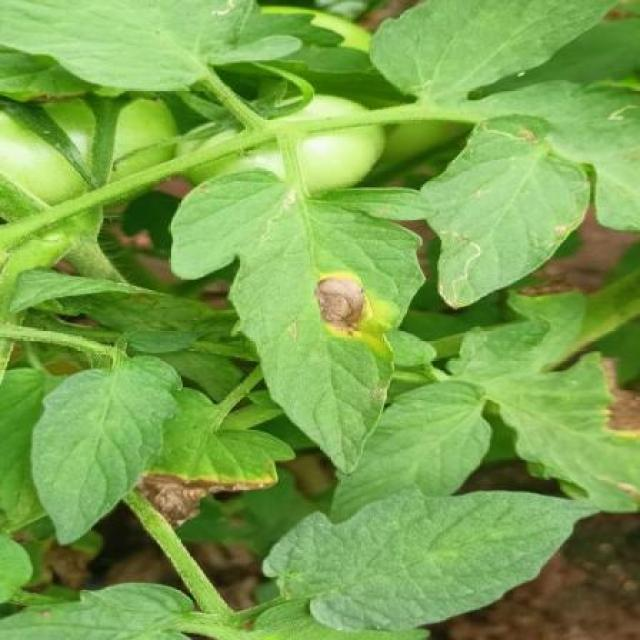Early Blight: (165, 166, 434, 476)
Healthy: (257, 485, 603, 632), (28, 351, 183, 546)
